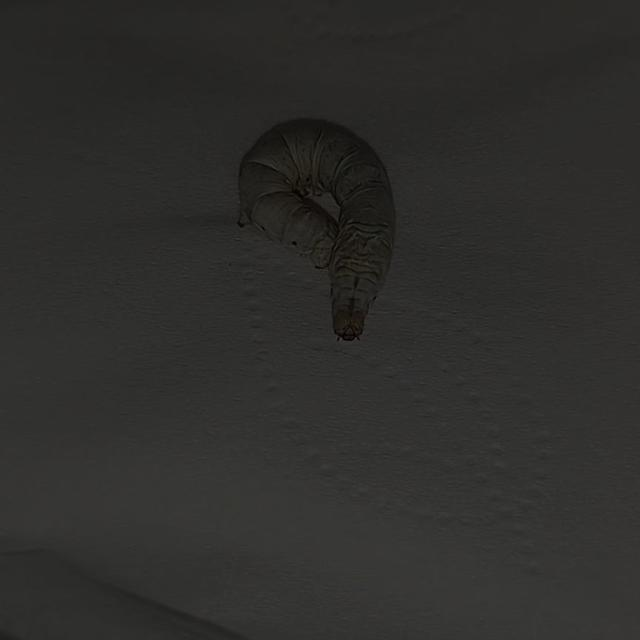Healthy: (221, 88, 425, 366)
